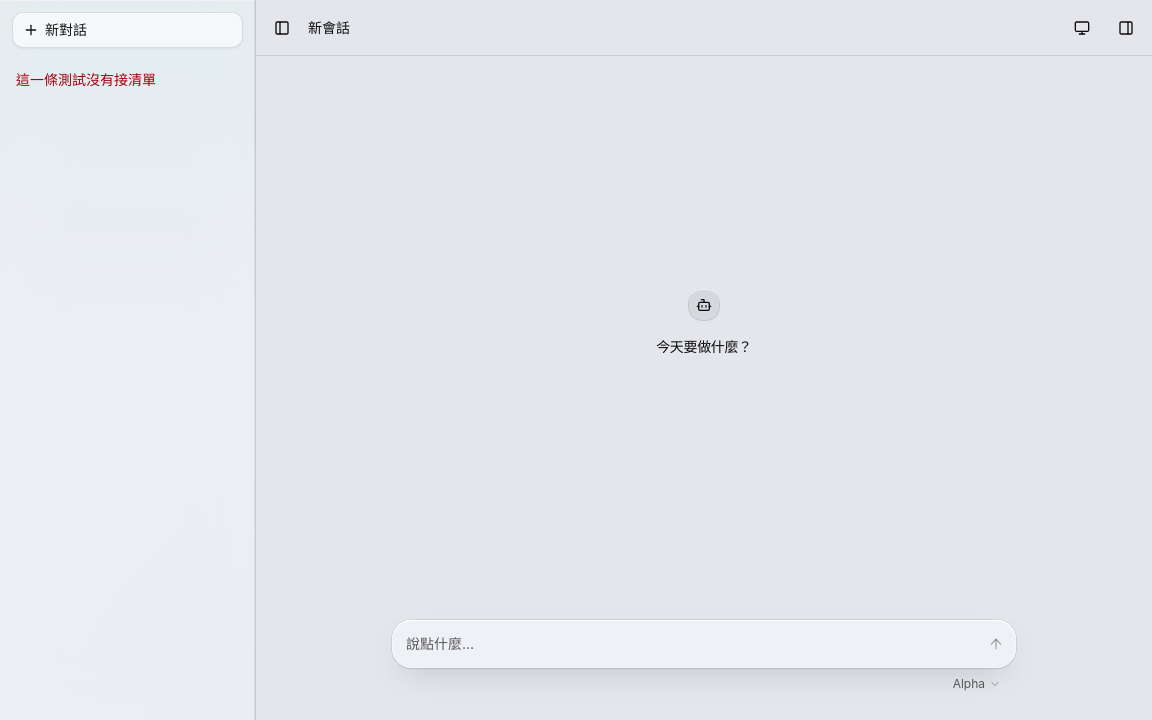
模型座（#723） › /model › `/` 選單列出 /model；選它打開座位並清掉那一行
Expected: the element with test id "model-seat" is shown, [947,672,1007,696]
Type "/mod" into the text box named "要說的話".
click(691, 644); type("/mod")  # box [406,628,976,660]
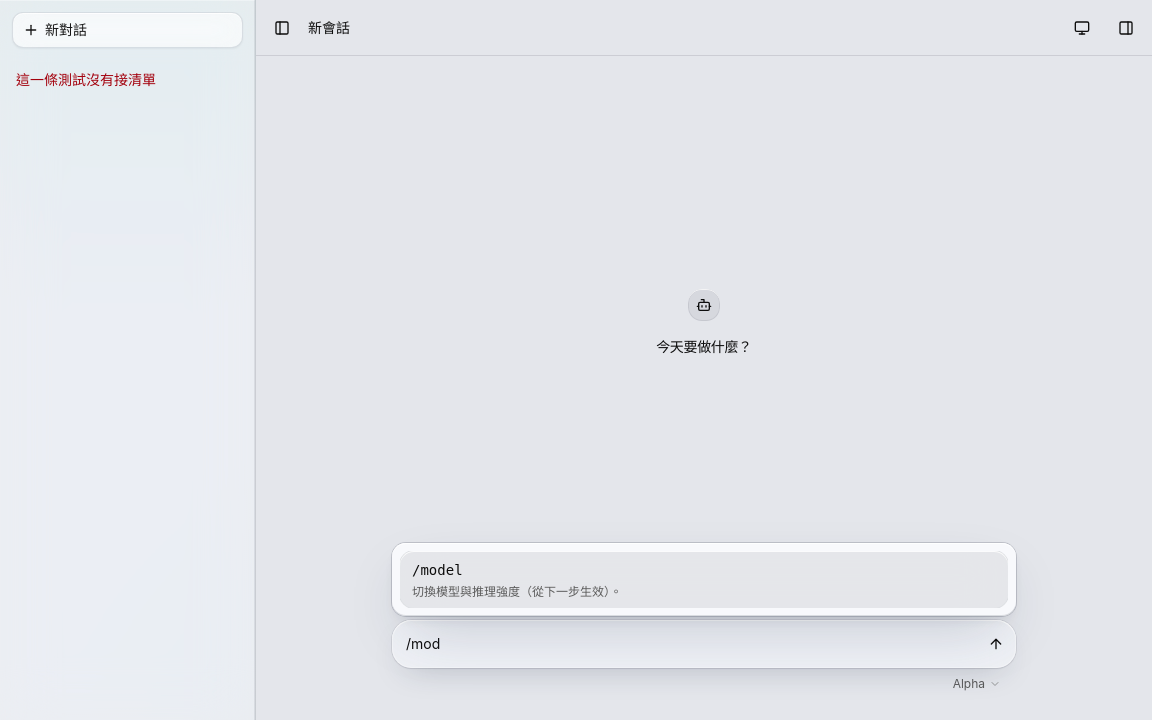
Click the text "/model".
click(437, 570)  # box [412,559,463,582]
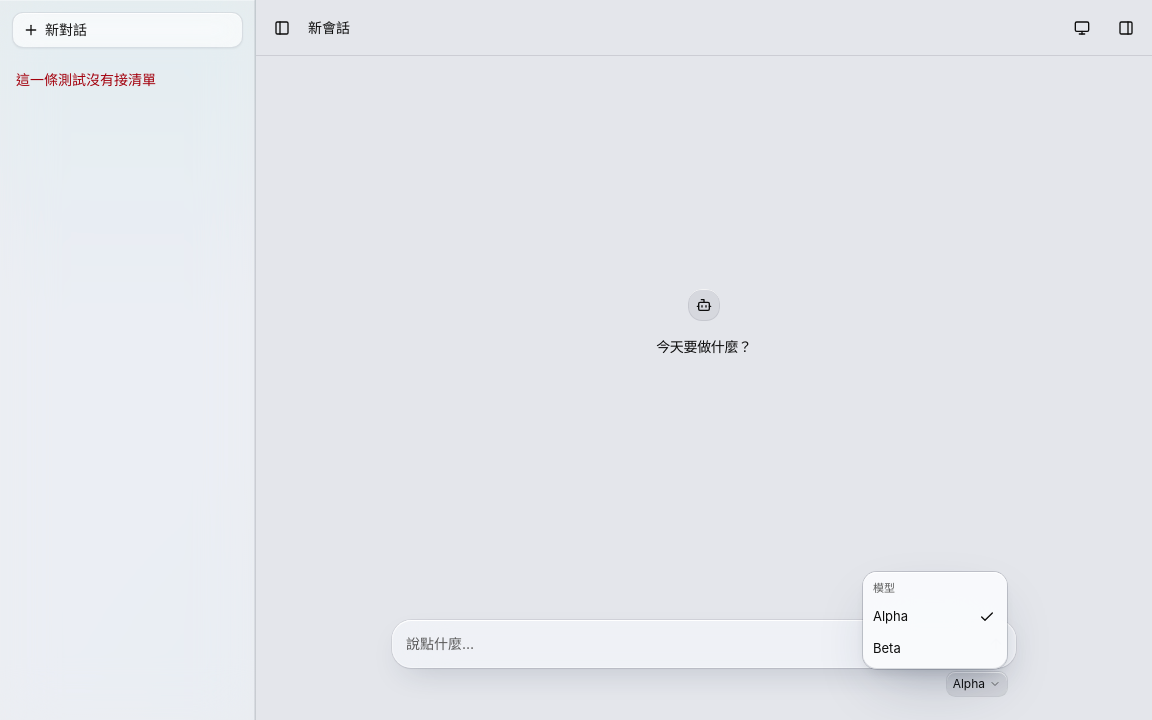
Now the menu item "Alpha" is shown, box [873,608,995,625]
Now the button "Alpha" is expanded, box [947,672,1007,696]
Now the text box named "要說的話" is empty, box [406,628,976,660]
